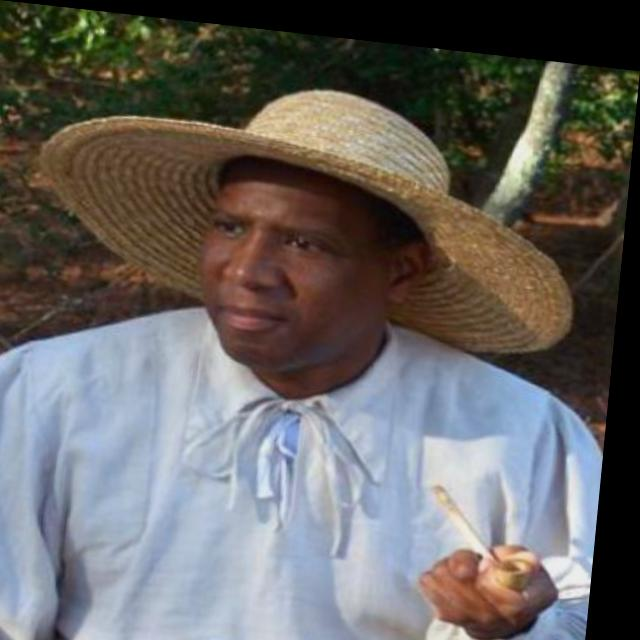cigarette: (435, 474, 512, 547)
